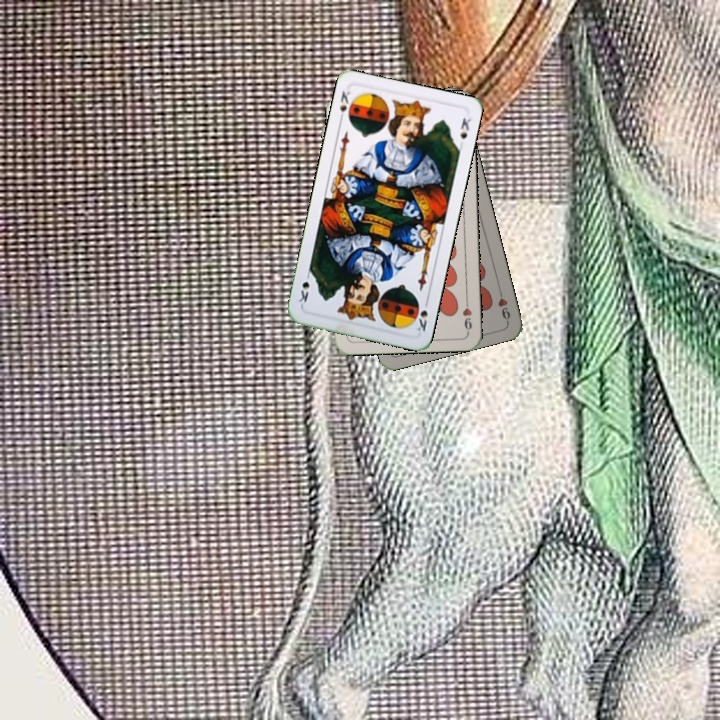H9: (494, 284, 513, 324), (458, 294, 474, 335)
SK: (410, 295, 431, 335), (335, 87, 356, 125)
